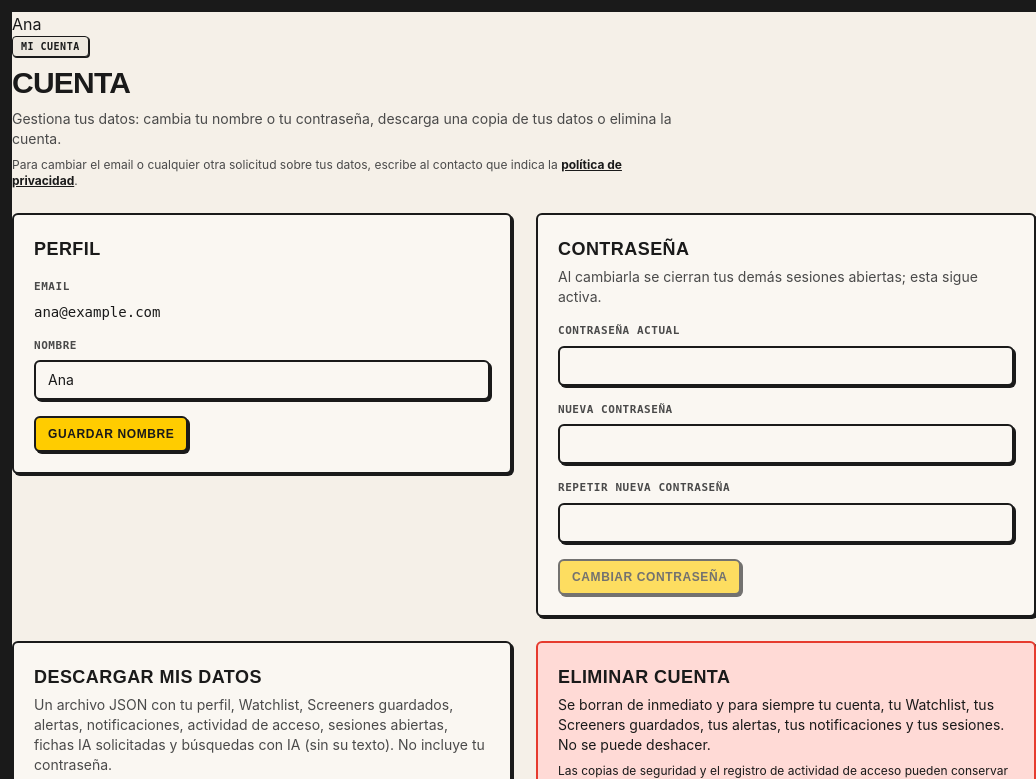
shows a field error for an invalid name
Replace the text in the field labelled "Nombre" with "x" at (262, 380), box [34, 360, 490, 400]
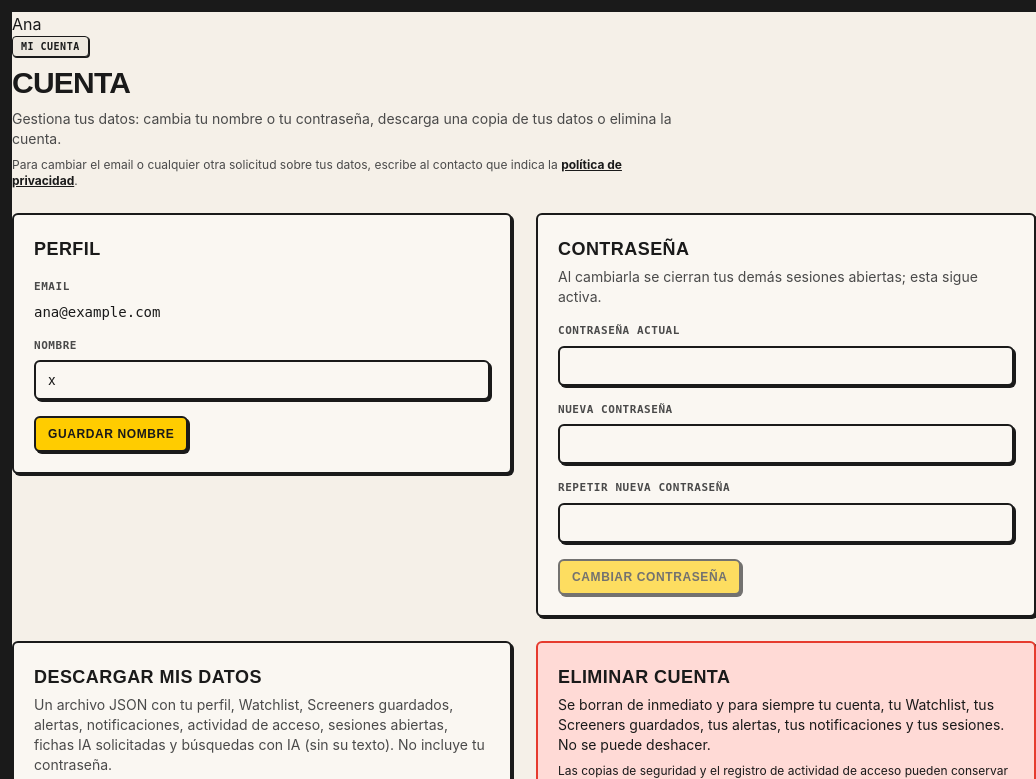
Click the button "Guardar nombre".
click(111, 434)  # box [34, 416, 188, 452]
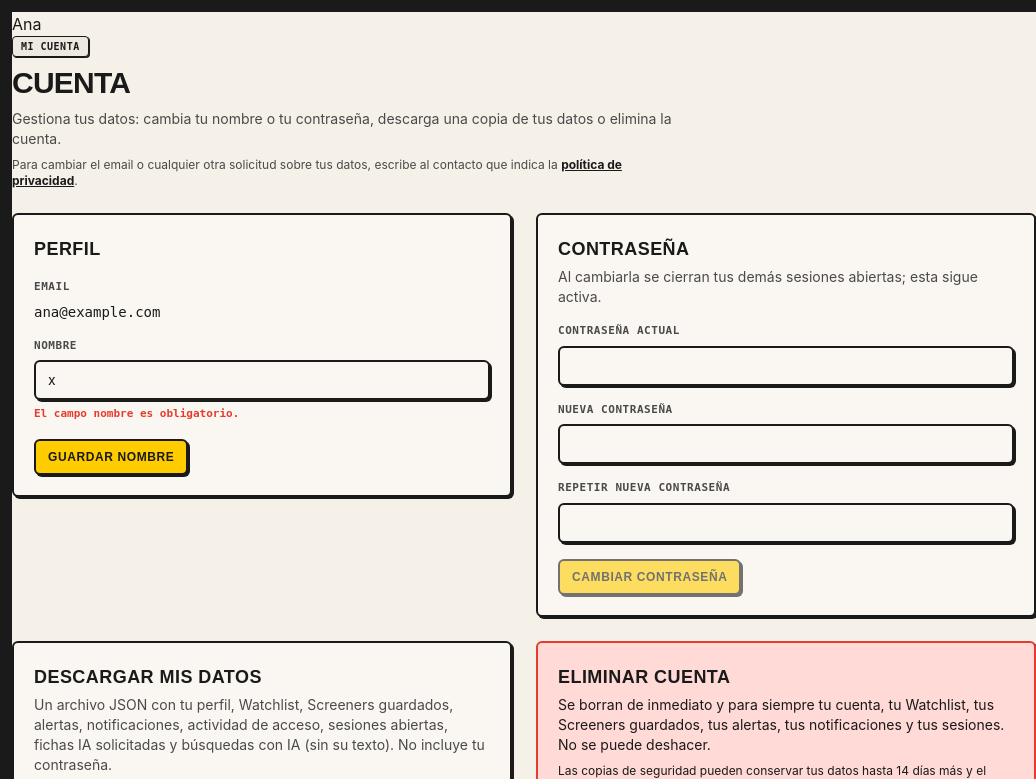
Expected: the text with test id "header-name" reads "Ana", [12, 14, 42, 34]
Now the text "El campo nombre es obligatorio." is shown, box [34, 407, 239, 420]
